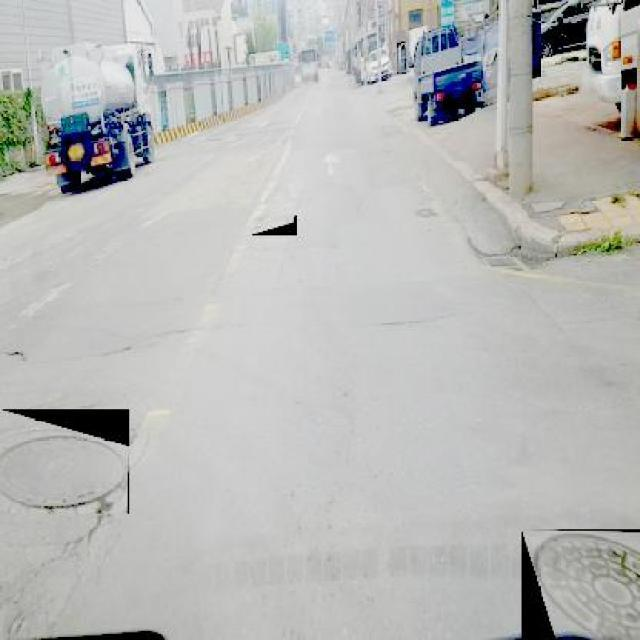Manhole: (0, 409, 129, 514), (521, 529, 640, 640), (482, 250, 530, 273), (252, 216, 297, 236)
Pothole: (8, 348, 30, 360)
